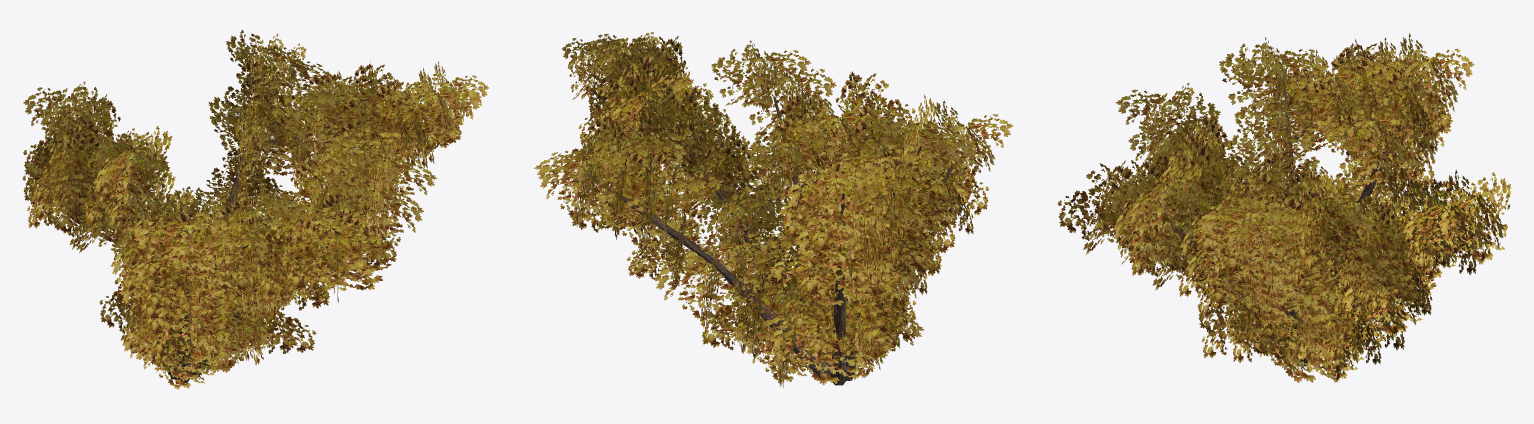
The model's file is bush_3d_05_yellow_lod0.glb.
3 views of the same model, side by side, from view 1: azimuth 30°, elevation 25°; view 2: azimuth 150°, elevation 25°; view 3: azimuth 270°, elevation 25° (orthographic). The views are drawn at different scales.
Parts seen in each view (by area): view 1: foliage_cards, wood_geometry; view 2: foliage_cards, wood_geometry; view 3: foliage_cards, wood_geometry.
Boxes of the visible parts, x1,y1,x2,y2 form: foliage_cards: (22, 29, 488, 389); wood_geometry: (66, 67, 442, 382); foliage_cards: (534, 31, 1013, 387); wood_geometry: (586, 52, 953, 385); foliage_cards: (1057, 33, 1511, 382); wood_geometry: (1120, 76, 1458, 366).
Size of the model in its own units: 2.84 by 1.72 by 2.5.
2 materials, 2 textured.
